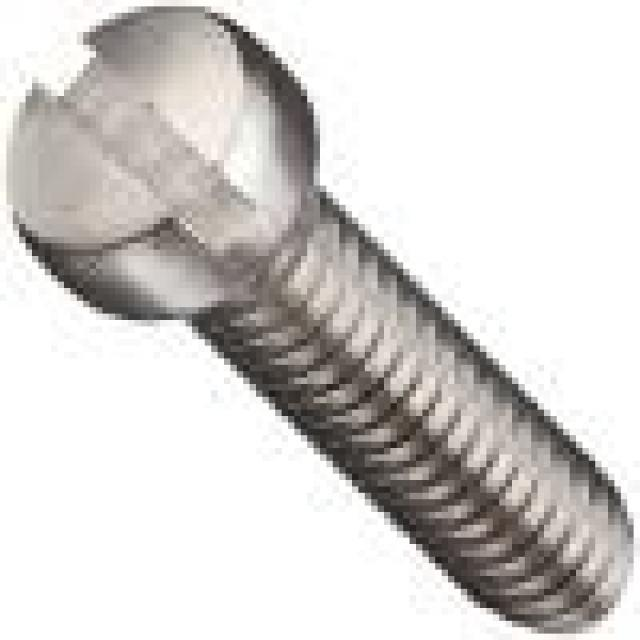Screw: (6, 6, 640, 640)
